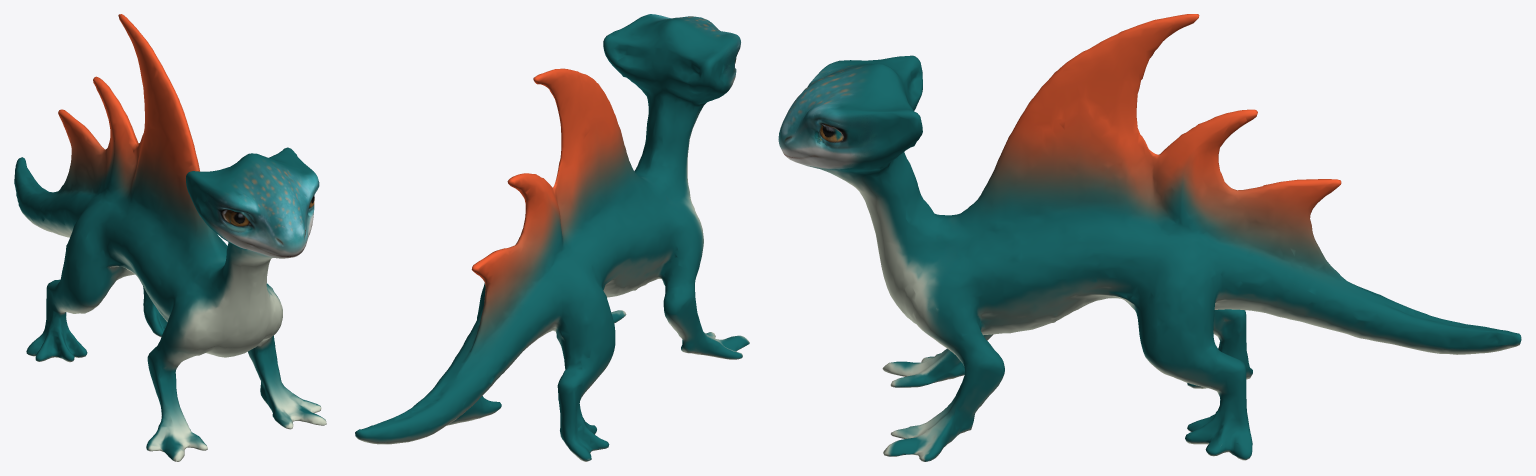
The model's file is qihuan-b.f16a4850983d.glb.
3 views of the same model, side by side, from view 1: azimuth 30°, elevation 25°; view 2: azimuth 150°, elevation 25°; view 3: azimuth 270°, elevation 25° (orthographic). The views are drawn at different scales.
Parts seen in each view (by area): view 1: QihuanExpressionReviewMesh; view 2: QihuanExpressionReviewMesh; view 3: QihuanExpressionReviewMesh.
Part boxes in pixels (box(x1,y1,x2,y2)): QihuanExpressionReviewMesh: box(14, 14, 326, 461); QihuanExpressionReviewMesh: box(355, 14, 749, 461); QihuanExpressionReviewMesh: box(778, 14, 1521, 461).
Bounding box in the file's own units: 0.3262 × 0.6106 × 1.02.
Materials: 1 (1 with a texture image).
